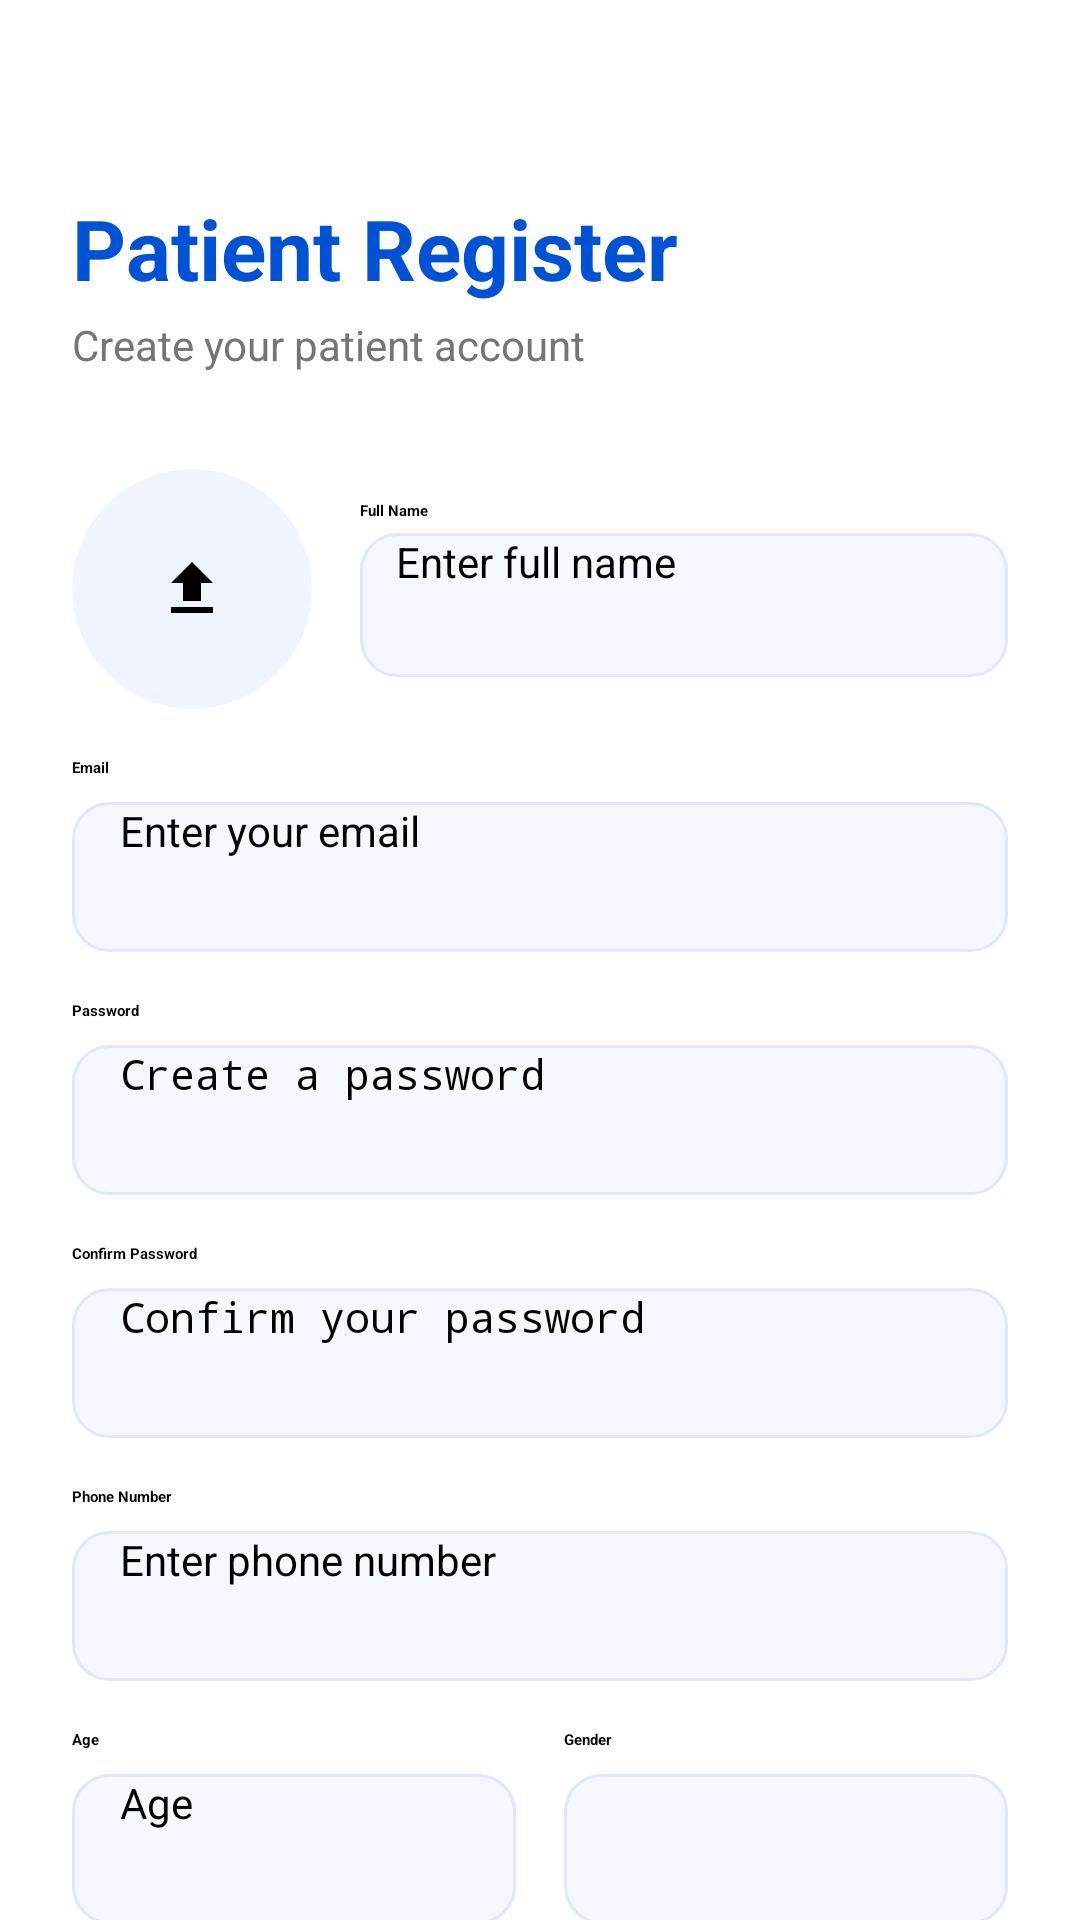

Locate icon controls on the screen. Image size 1080×1920, boxes as [left=x1, top=y1, right=x2, bottom=y2].
upload photo: [left=72, top=469, right=312, bottom=709]
